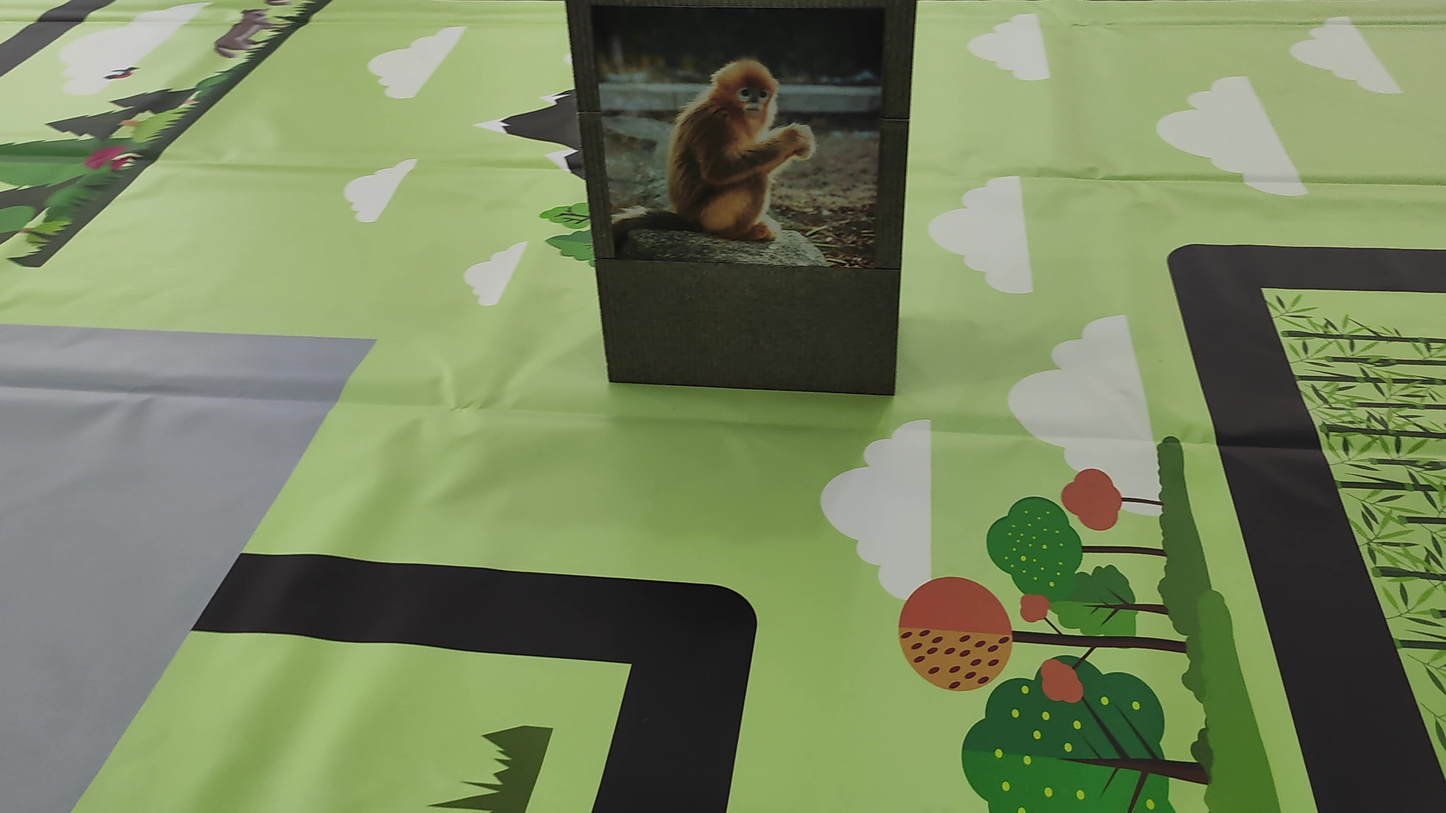monkey: (616, 36, 840, 260)
